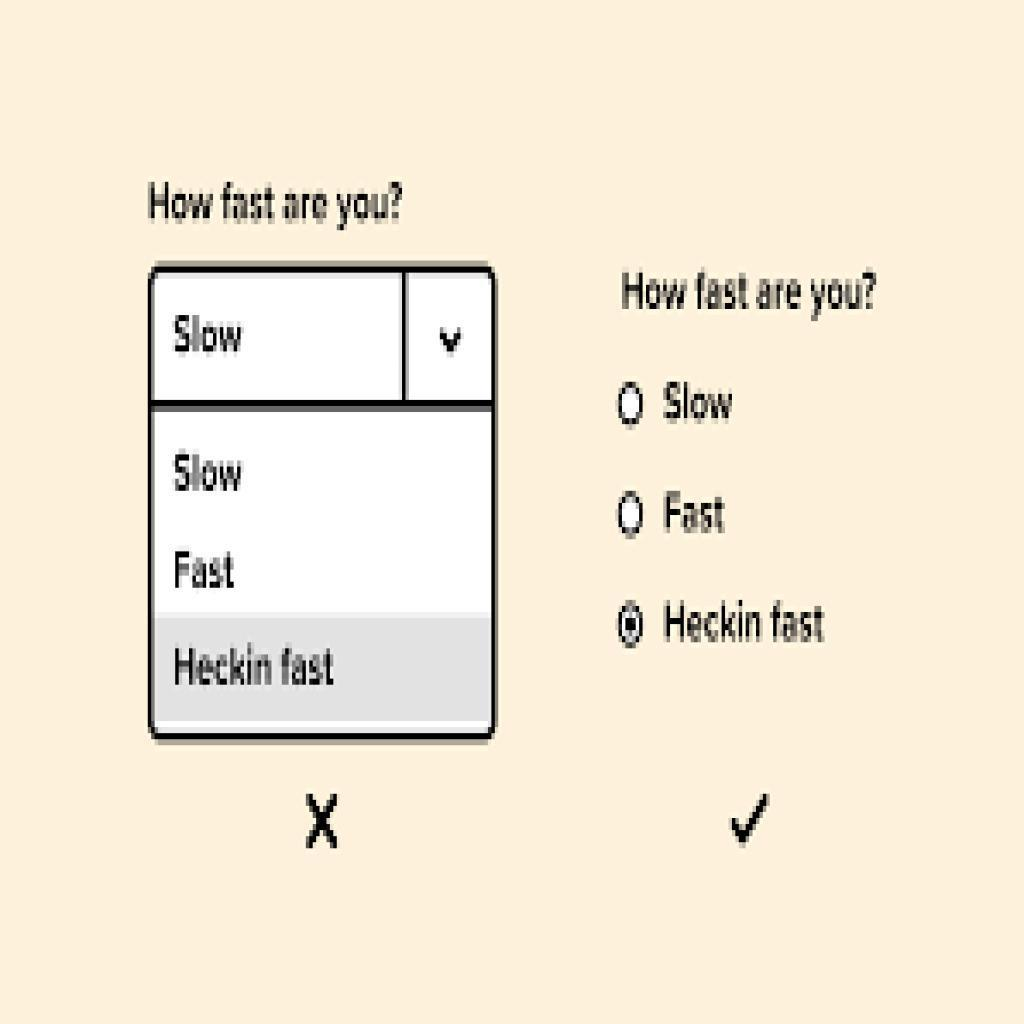button: (155, 615, 493, 724)
dropdown: (148, 269, 499, 404)
label: (661, 597, 832, 650), (170, 544, 255, 603), (172, 450, 255, 498), (662, 487, 729, 541), (661, 382, 740, 426)
radio: (613, 592, 651, 659), (617, 489, 646, 545), (617, 382, 648, 430)
